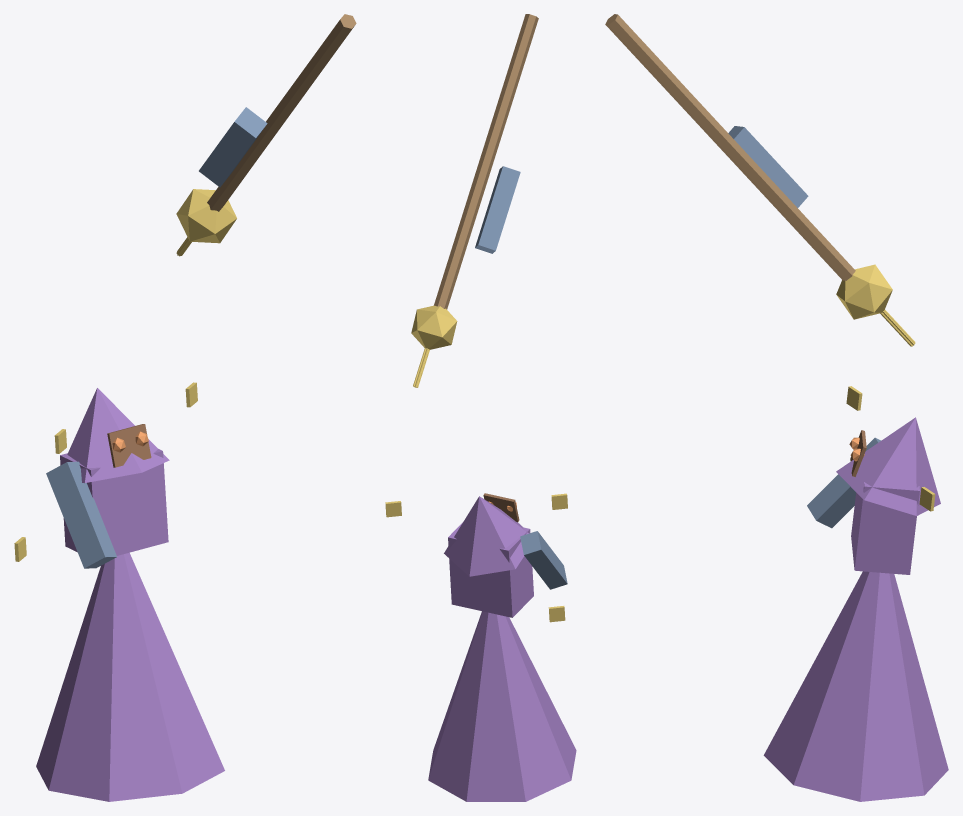
The model's file is npcpose_stormcaller_idle_05.glb.
3 renders of one model, left to right at view 1: azimuth 30°, elevation 25°; view 2: azimuth 150°, elevation 25°; view 3: azimuth 270°, elevation 25°, orthographic. The views are drawn at different scales.
Parts seen in each view (by area): view 1: npcpose; view 2: npcpose; view 3: npcpose.
Part boxes in pixels (bbox=[...]): npcpose: bbox=[14, 14, 356, 801]; npcpose: bbox=[385, 14, 576, 801]; npcpose: bbox=[605, 14, 948, 801].
Size of the model in its own units: 1.21 by 4.73 by 1.84.
